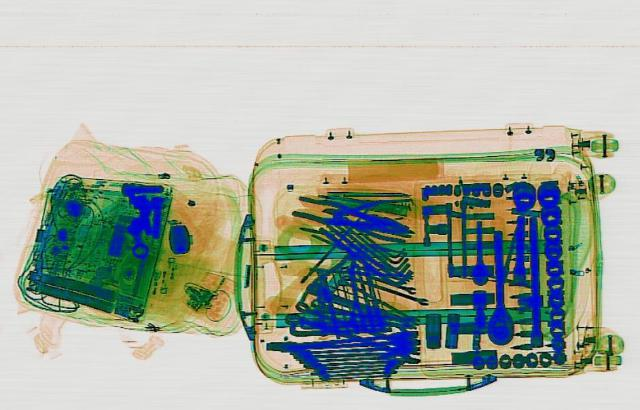Pliers: (286, 192, 420, 240), (314, 188, 418, 240)
Wrench: (282, 310, 426, 363), (307, 296, 418, 333), (338, 271, 430, 304), (342, 263, 418, 292)
